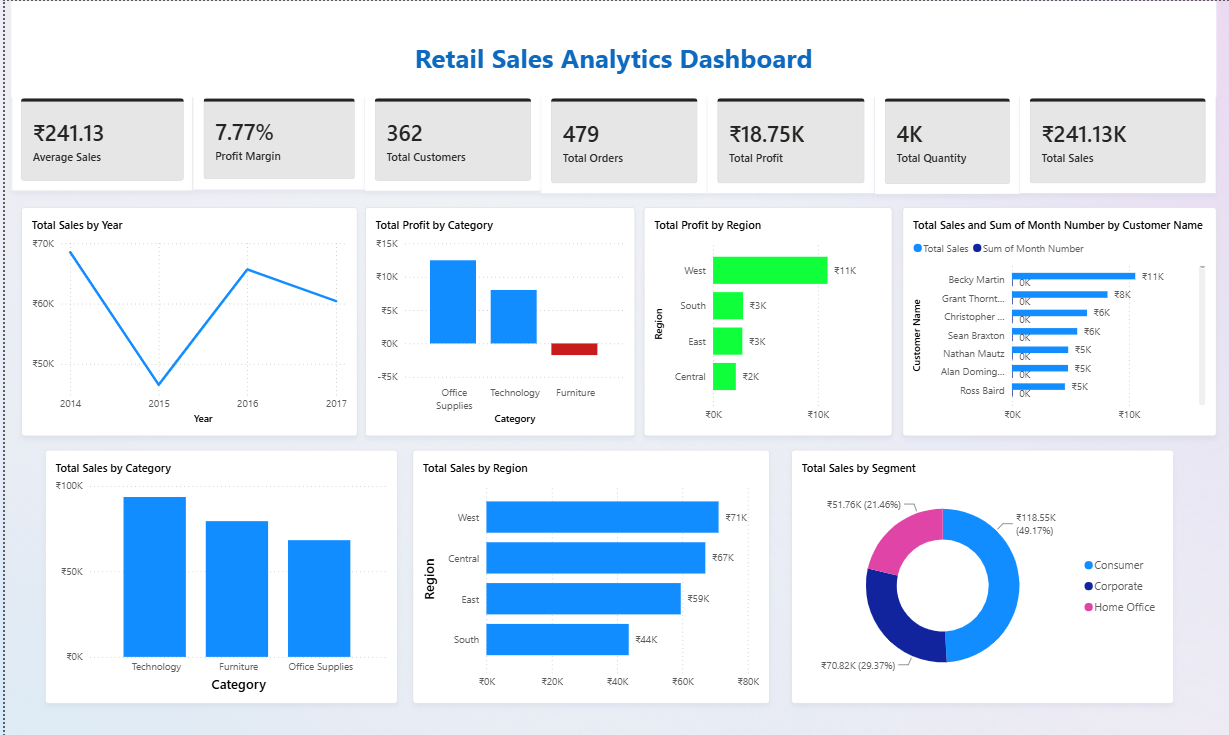

This screenshot's page, from the dashboard's own definition file:
{"tool":"powerbi","page":{"name":"Page 1","canvas":[1500,900],"ordinal":0},"visuals":[{"type":"cardVisual","fields":{"Data":["Superstore1(Sheet1)(in).Average Sales"]},"box":[7.6,107,223.2,125.3],"z":0},{"type":"cardVisual","fields":{"Data":["Superstore1(Sheet1)(in).Profit Margin"]},"box":[230.8,107,209.4,123.8],"z":1000},{"type":"cardVisual","fields":{"Data":["Superstore1(Sheet1)(in).Total Customers"]},"box":[440.2,107,215.5,125.3],"z":2000},{"type":"cardVisual","fields":{"Data":["Superstore1(Sheet1)(in).Total Orders"]},"box":[655.7,107,203.3,128.4],"z":3000},{"type":"cardVisual","fields":{"Data":["Superstore1(Sheet1)(in).Total Profit"]},"box":[859,107,204.8,128.4],"z":4000},{"type":"cardVisual","fields":{"Data":["Superstore1(Sheet1)(in).Total Quantity"]},"box":[1063.9,107,177.3,129.9],"z":5000},{"type":"cardVisual","fields":{"Data":["Superstore1(Sheet1)(in).Total Sales"]},"box":[1241.2,107,240,128.4],"z":6000},{"type":"lineChart","fields":{"Category":["Superstore1(Sheet1)(in).Order Date.Variation.Date Hierarchy.Year","Superstore1(Sheet1)(in).Order Date.Variation.Date Hierarchy.Quarter","Superstore1(Sheet1)(in).Order Date.Variation.Date Hierarchy.Month","Superstore1(Sheet1)(in).Order Date.Variation.Date Hierarchy.Day"],"Y":["Superstore1(Sheet1)(in).Total Sales"]},"box":[19.9,252.2,411.2,279.7],"z":7000},{"type":"lineClusteredColumnComboChart","fields":{"Category":["Superstore1(Sheet1)(in).Category"],"Y":["Superstore1(Sheet1)(in).Total Sales"]},"box":[48.9,548.7,431,310.3],"z":8000},{"type":"lineClusteredColumnComboChart","fields":{"Category":["Superstore1(Sheet1)(in).Category"],"Y":["Superstore1(Sheet1)(in).Total Profit"]},"box":[440.2,252.2,330.2,279.7],"z":9000},{"type":"clusteredBarChart","fields":{"Category":["Superstore1(Sheet1)(in).Region"],"Y":["Superstore1(Sheet1)(in).Total Sales"]},"box":[498.3,548.7,437.2,310.3],"z":10000},{"type":"clusteredBarChart","fields":{"Category":["Superstore1(Sheet1)(in).Region"],"Y":["Superstore1(Sheet1)(in).Total Profit"]},"box":[781.1,252.2,304.2,279.7],"z":11000},{"type":"donutChart","fields":{"Category":["Superstore1(Sheet1)(in).Segment"],"Y":["Superstore1(Sheet1)(in).Total Sales"]},"box":[961.5,548.7,467.7,310.3],"z":12000},{"type":"clusteredBarChart","fields":{"Category":["Superstore1(Sheet1)(in).Customer Name"],"Y":["Superstore1(Sheet1)(in).Total Sales","Sum(Superstore1(Sheet1)(in).Month Number)"]},"box":[1097.5,252.2,383.7,279.7],"z":13000},{"type":"textbox","box":[7.6,0,1473.5,117.7],"z":14000}]}

Visuals, with their boxes in screenshot pixels (x1, y1, x2, y2), scaled from the page's 1500x900 canvas onto the 1229x735 screenshot:
cardVisual - Superstore1(Sheet1)(in).Average Sales: left=6, top=87, right=189, bottom=190
cardVisual - Superstore1(Sheet1)(in).Profit Margin: left=189, top=87, right=361, bottom=188
cardVisual - Superstore1(Sheet1)(in).Total Customers: left=361, top=87, right=537, bottom=190
cardVisual - Superstore1(Sheet1)(in).Total Orders: left=537, top=87, right=704, bottom=192
cardVisual - Superstore1(Sheet1)(in).Total Profit: left=704, top=87, right=872, bottom=192
cardVisual - Superstore1(Sheet1)(in).Total Quantity: left=872, top=87, right=1017, bottom=193
cardVisual - Superstore1(Sheet1)(in).Total Sales: left=1017, top=87, right=1214, bottom=192
lineChart - Superstore1(Sheet1)(in).Order Date.Variation.Date Hierarchy.Year x Superstore1(Sheet1)(in).Order Date.Variation.Date Hierarchy.Quarter: left=16, top=206, right=353, bottom=434
lineClusteredColumnComboChart - Superstore1(Sheet1)(in).Category x Superstore1(Sheet1)(in).Total Sales: left=40, top=448, right=393, bottom=702
lineClusteredColumnComboChart - Superstore1(Sheet1)(in).Category x Superstore1(Sheet1)(in).Total Profit: left=361, top=206, right=631, bottom=434
clusteredBarChart - Superstore1(Sheet1)(in).Region x Superstore1(Sheet1)(in).Total Sales: left=408, top=448, right=766, bottom=702
clusteredBarChart - Superstore1(Sheet1)(in).Region x Superstore1(Sheet1)(in).Total Profit: left=640, top=206, right=889, bottom=434
donutChart - Superstore1(Sheet1)(in).Segment x Superstore1(Sheet1)(in).Total Sales: left=788, top=448, right=1171, bottom=702
clusteredBarChart - Superstore1(Sheet1)(in).Customer Name x Superstore1(Sheet1)(in).Total Sales: left=899, top=206, right=1214, bottom=434
textbox: left=6, top=0, right=1214, bottom=96
